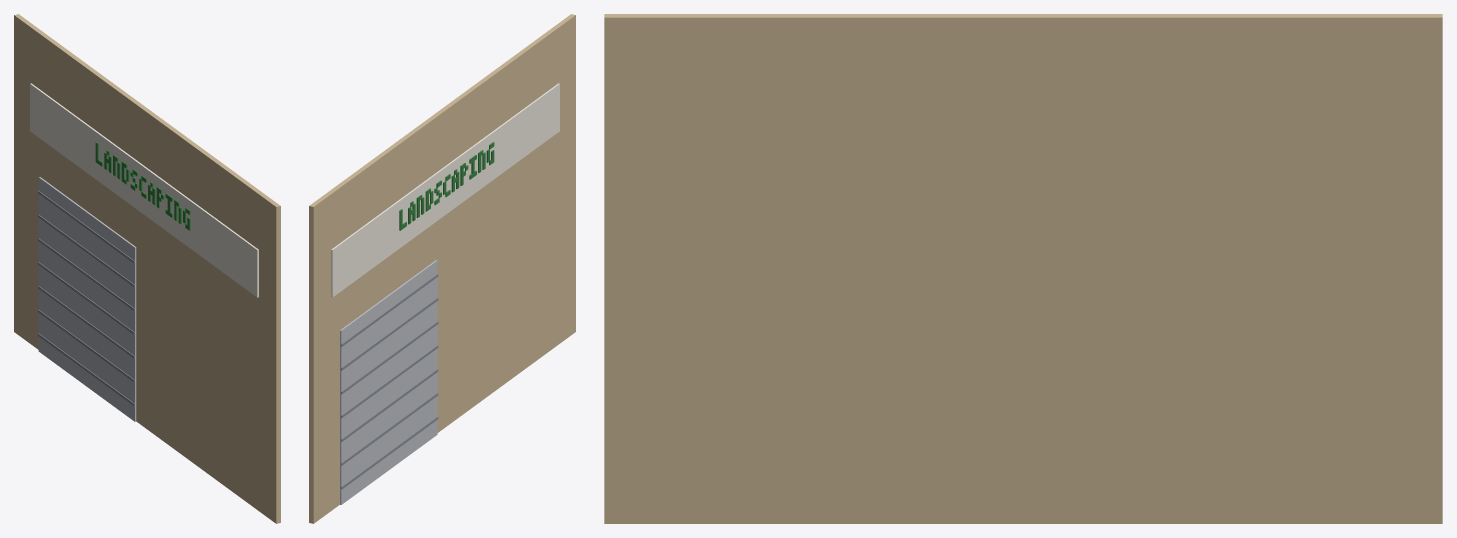
Rendered from garage.glb.
The picture shows the model from 3 angles, left to right: view 1: azimuth 30°, elevation 25°; view 2: azimuth 150°, elevation 25°; view 3: azimuth 270°, elevation 25°; orthographic projection. The views are drawn at different scales.
Visible parts, largest first — view 1: garage; view 2: garage; view 3: garage.
Part boxes in pixels (x1,y1,x2,y2): garage: [14, 14, 280, 523]; garage: [309, 14, 575, 523]; garage: [604, 14, 1442, 523].
Bounding box in the file's own units: 0.0475 × 2 × 3.
1 material, 1 textured.
